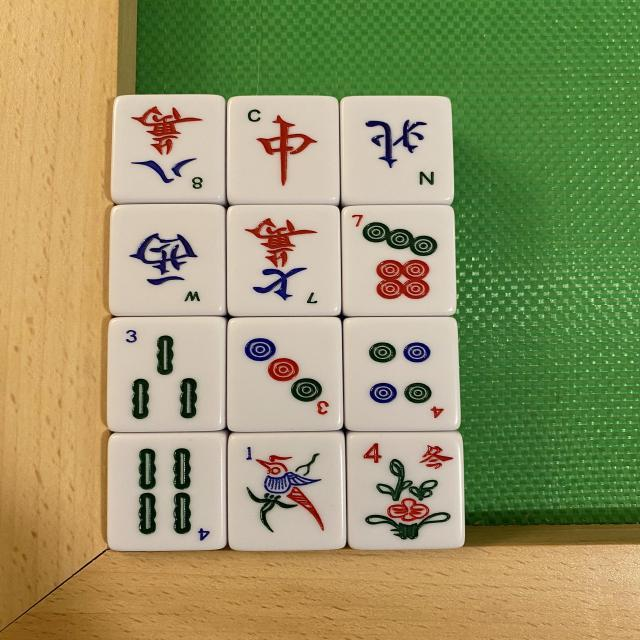bs4: (347, 433, 466, 553)
hdr: (228, 98, 341, 206)
hwn: (344, 96, 454, 202)
hww: (109, 201, 225, 313)
sb1: (227, 434, 346, 548)
sb3: (108, 320, 222, 435)
sb4: (104, 432, 225, 552)
sc7: (227, 208, 340, 318)
sc8: (110, 95, 224, 202)
sd3: (228, 321, 341, 438)
sd4: (347, 322, 458, 437)
sd7: (344, 206, 452, 316)
